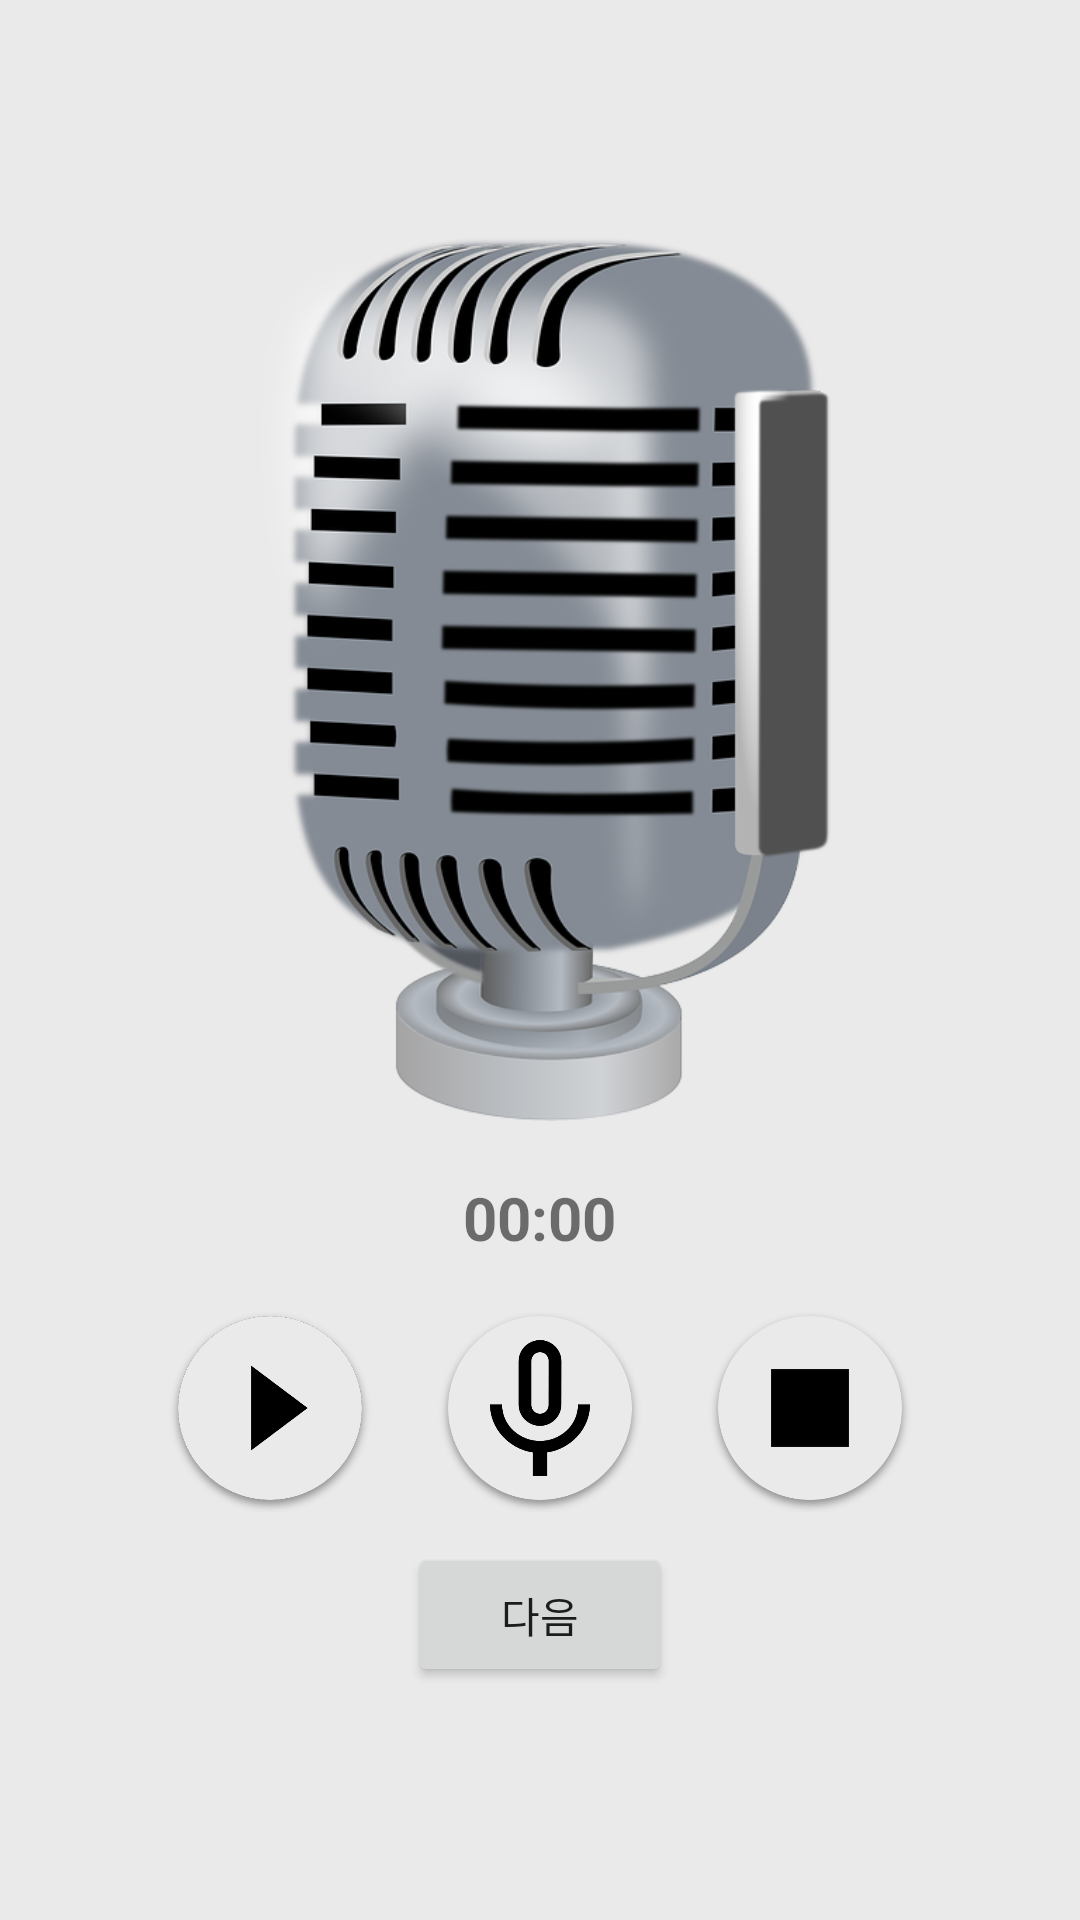

Screen size 1080px x 1920px. Icon name, then its box in pixels as BBox(x1, y1, x2, y2):
play: BBox(176, 1316, 365, 1507)
rec: BBox(446, 1340, 635, 1507)
stop: BBox(716, 1364, 905, 1507)
